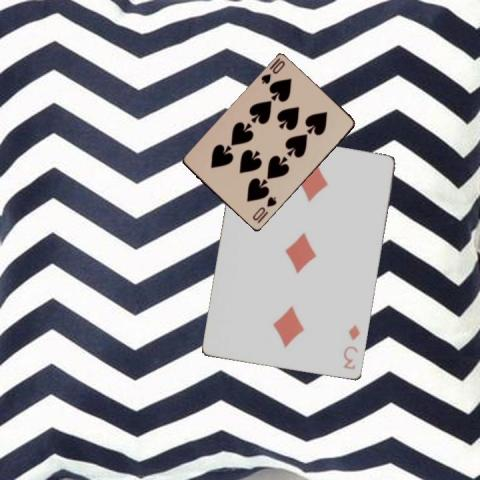10s: (249, 194, 278, 223), (258, 58, 287, 86)
3d: (340, 322, 361, 371)
